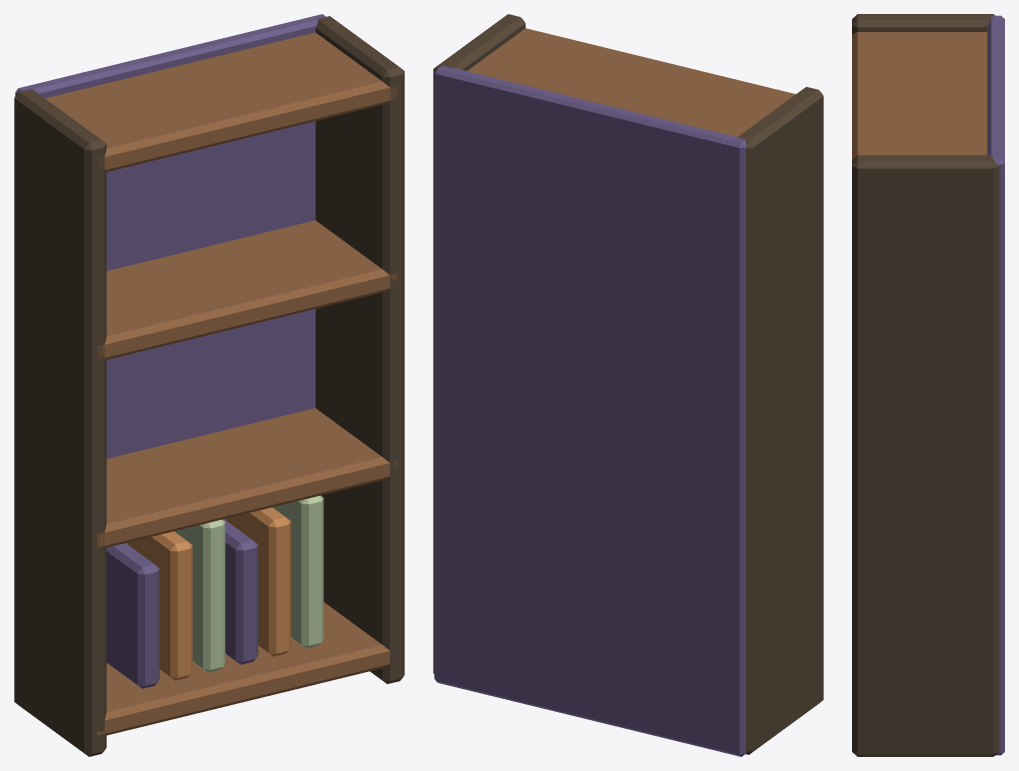
Rendered from Bookcase_A.glb.
3 views of the same model, side by side, from view 1: azimuth 30°, elevation 25°; view 2: azimuth 150°, elevation 25°; view 3: azimuth 270°, elevation 25° (orthographic). The views are drawn at different scales.
Visible parts, largest first — view 1: Bookcase_A; view 2: Bookcase_A; view 3: Bookcase_A.
Part boxes in pixels (left/top/right/bottom): Bookcase_A: left=14, top=14, right=404, bottom=756; Bookcase_A: left=433, top=14, right=823, bottom=756; Bookcase_A: left=852, top=14, right=1004, bottom=756.
Bounding box in the file's own units: 0.929 × 1.7 × 0.3949.
